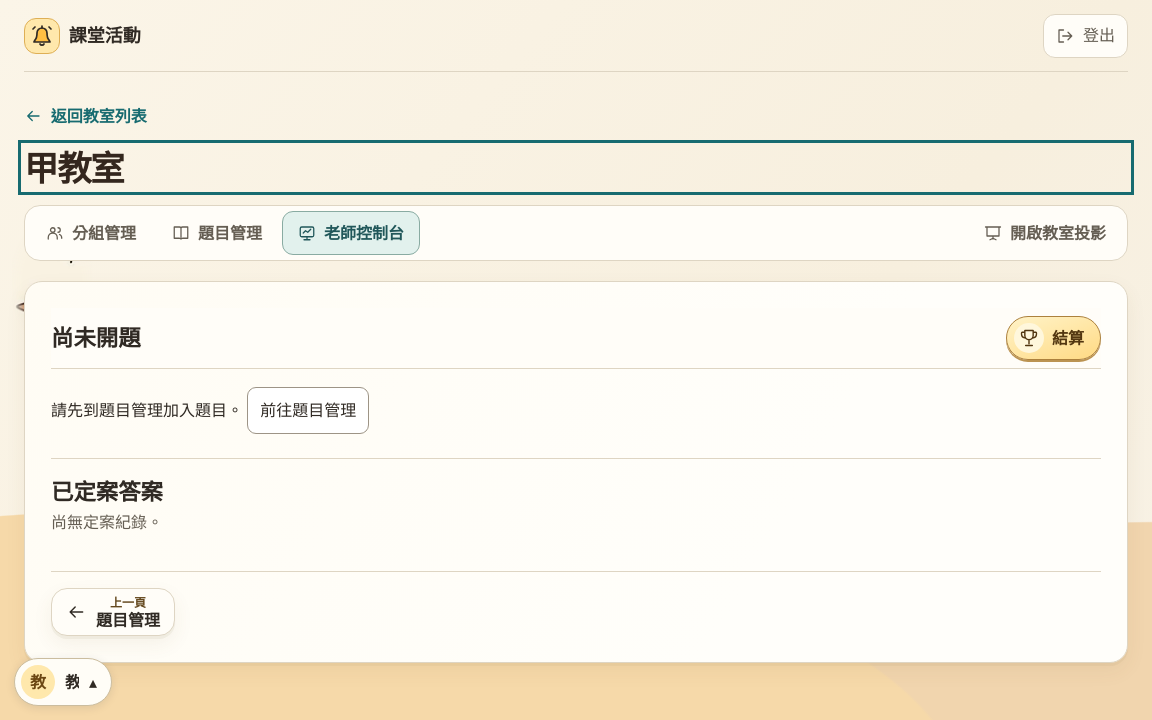
結算期間收到其他分頁開題的更新時收起工具及確認對話框
Click the button "結算": (1054, 338) x1=1006 y1=316 x2=1101 y2=360
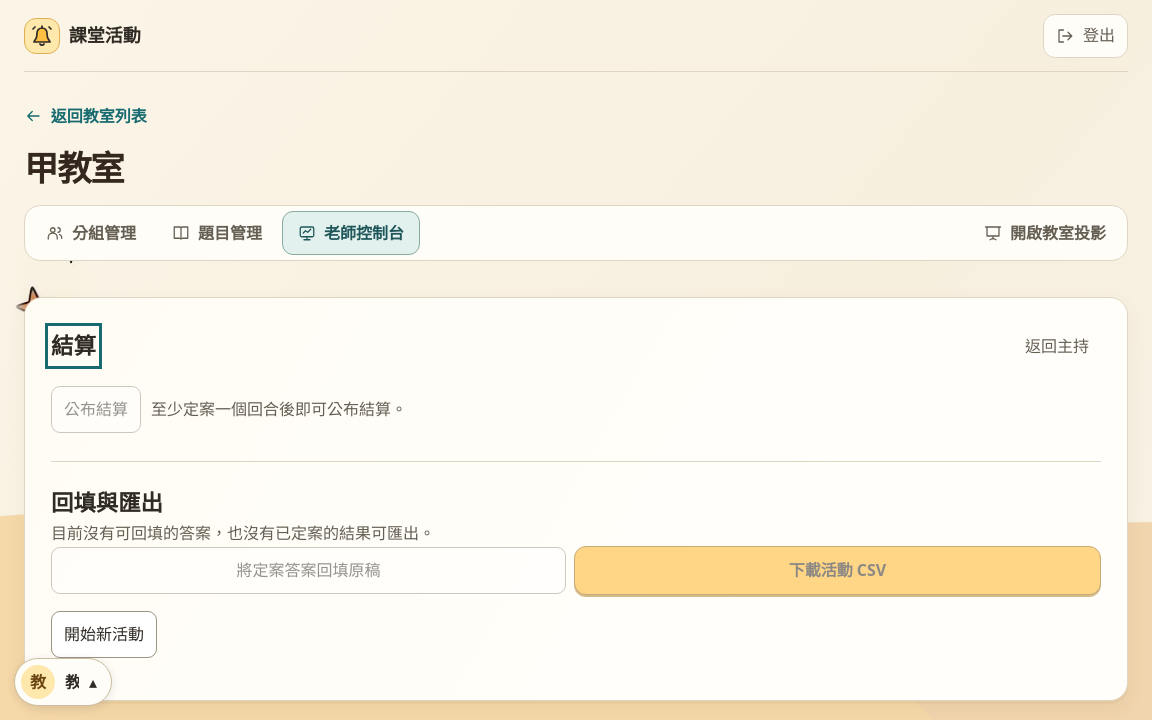
Click the button "開始新活動": (104, 634) x1=51 y1=611 x2=157 y2=658
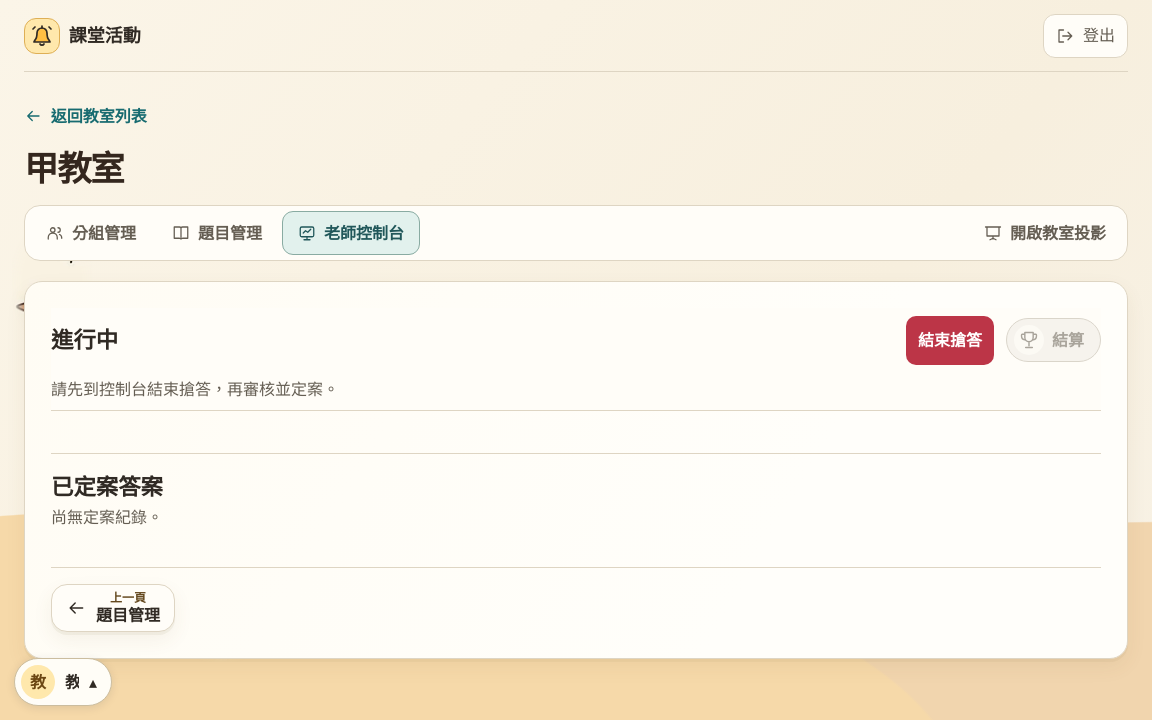
Now the text "回填與匯出" is gone
Now the text "請先到控制台結束搶答" is shown, box x1=51 y1=378 x2=339 y2=400
